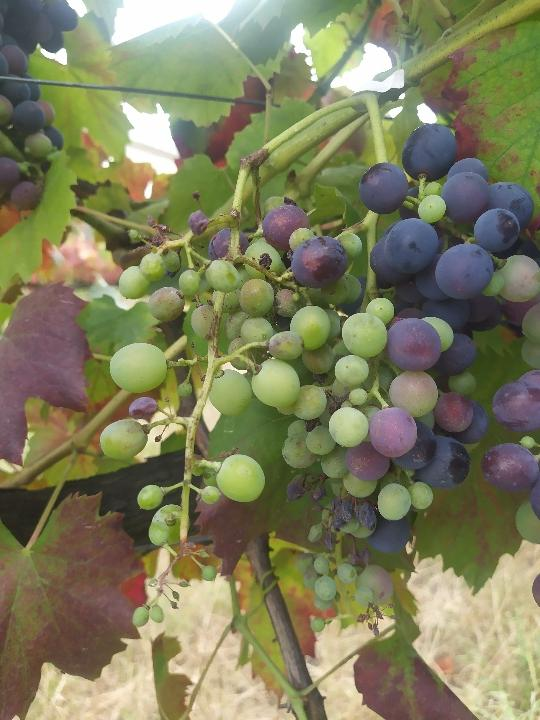grape: (283, 120, 533, 637), (98, 188, 351, 633)
